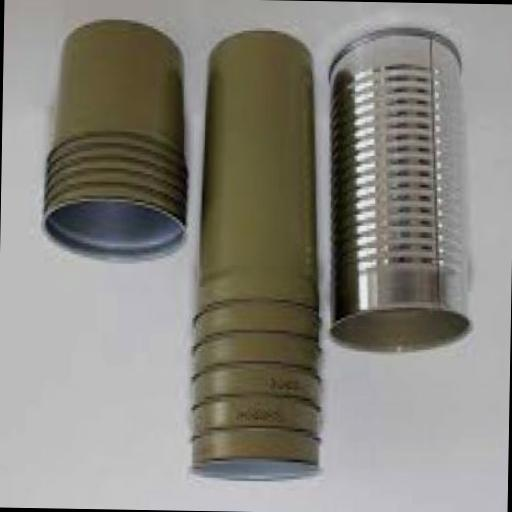metal: (186, 32, 328, 486), (322, 32, 476, 354), (42, 18, 190, 264)
